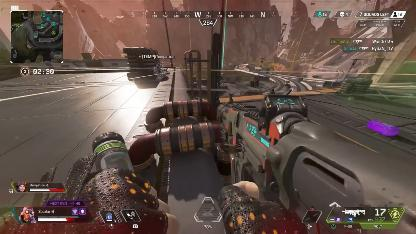Target: (152, 62, 168, 78)
